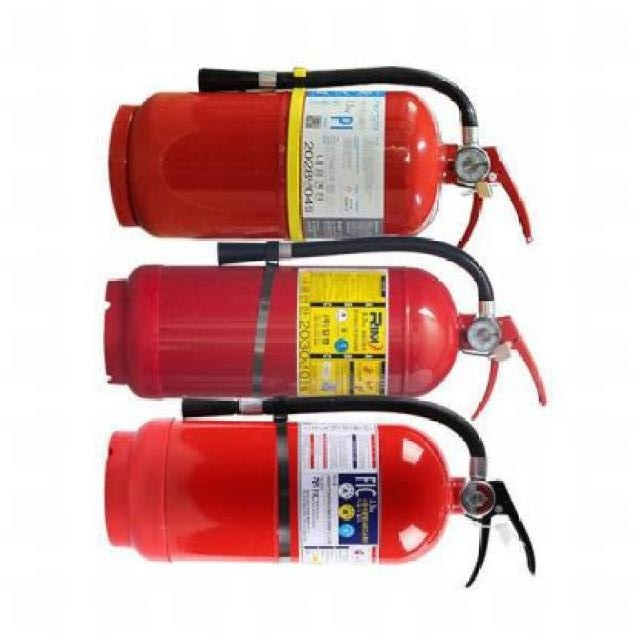fire extinguisher: (104, 393, 538, 589), (102, 235, 547, 421), (108, 65, 534, 250)
